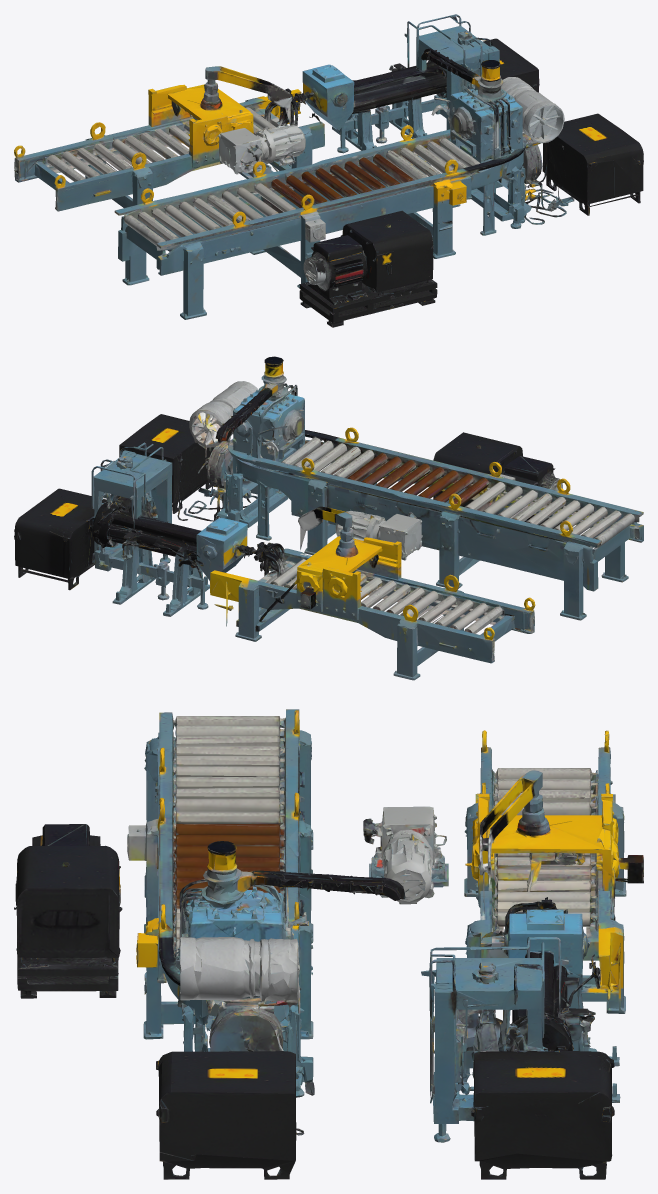
File: Realistic Industrial Game.glb
3 views of the same model, one above another, from view 1: azimuth 30°, elevation 25°; view 2: azimuth 150°, elevation 25°; view 3: azimuth 270°, elevation 25° (orthographic). The views are drawn at different scales.
Size of the model in its own units: 1.9 by 0.6015 by 1.42.
Materials: 1 (1 with a texture image).
